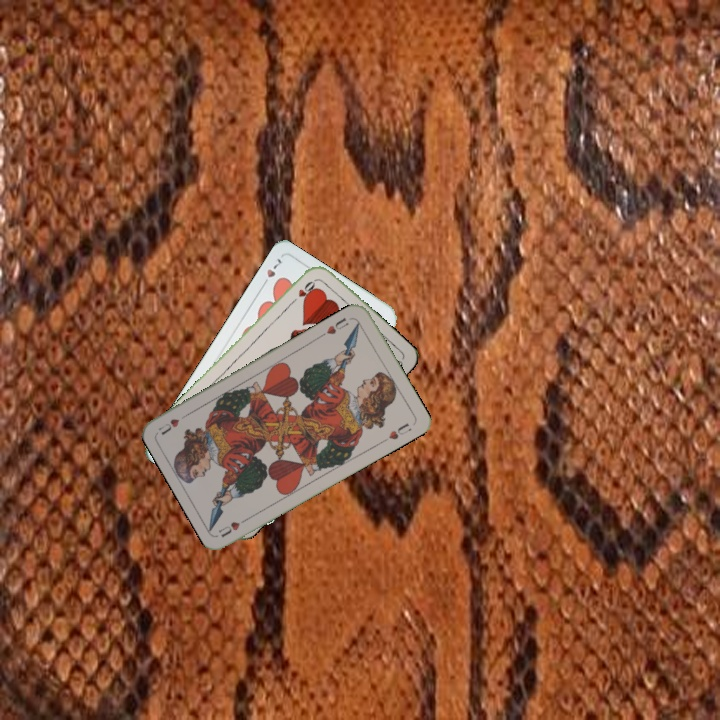H7: (257, 254, 284, 290)
HO: (286, 275, 319, 307)
HU: (215, 513, 252, 540), (318, 313, 351, 339)
